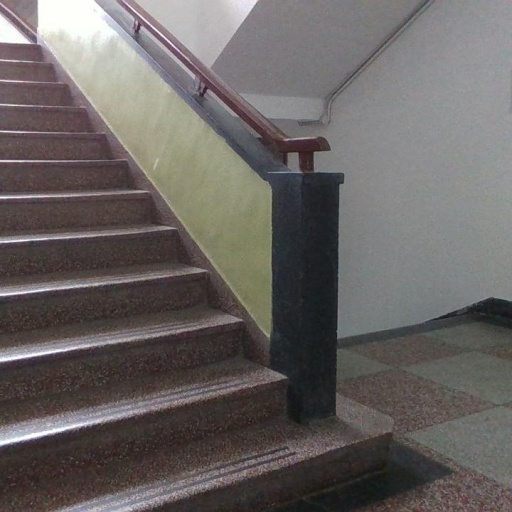Stairs: (0, 44, 390, 512)
